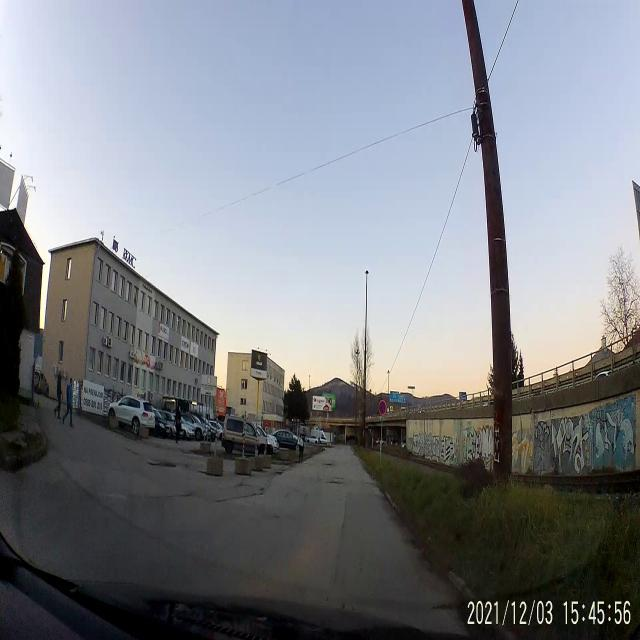Pothole: (147, 454, 178, 477), (320, 477, 350, 487), (321, 458, 339, 468)
